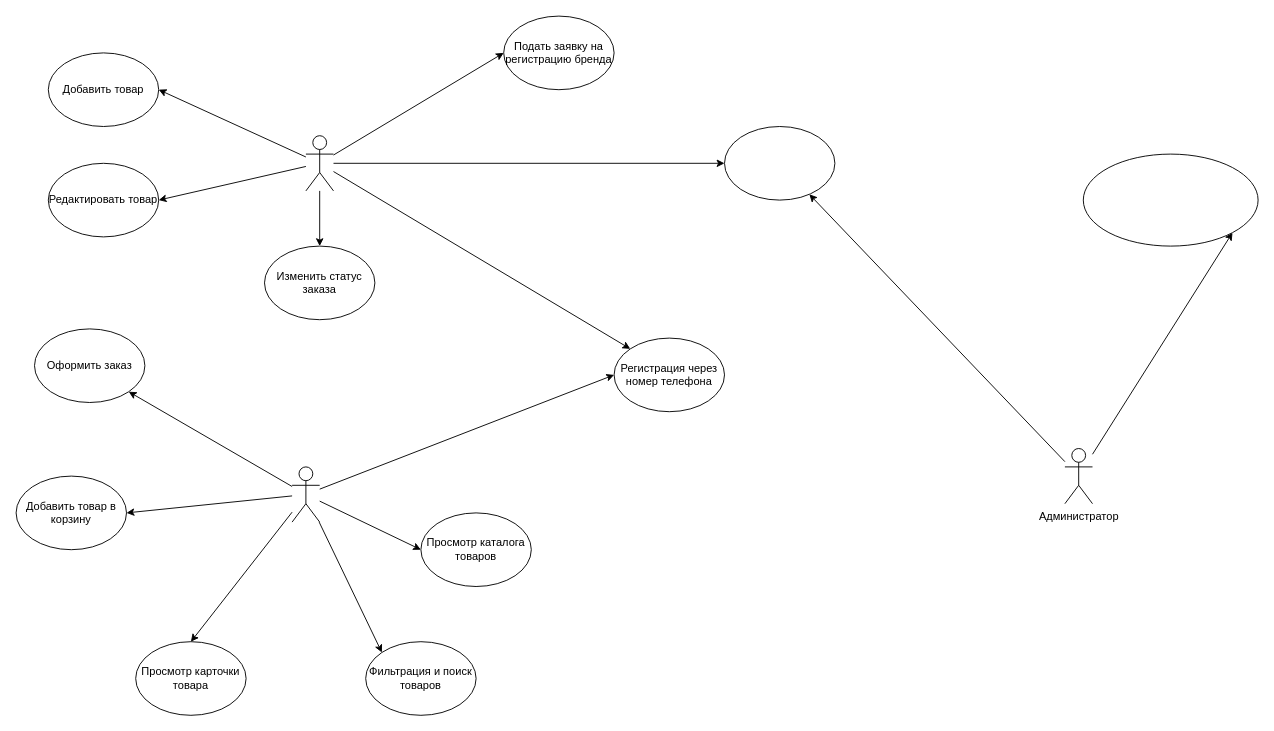
Image size: 1274x731. Some labels were removed from this diagram. Each missing label, with the centre of its shape:
"Подтвердить или отклонить заявку на регистрацию бренда" goes at [1170,199].
"Покупатель" goes at [305,494].
"Продавец (Бренд)" goes at [319,163].
"Просмотреть список заказов" goes at [779,163].
